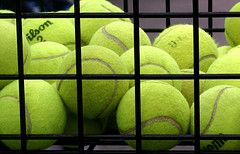tennis ball: (55, 45, 130, 119), (116, 80, 190, 150), (114, 45, 182, 115), (151, 24, 218, 92), (13, 42, 81, 109), (1, 79, 65, 150), (151, 69, 217, 134), (88, 21, 153, 86), (69, 4, 133, 67), (16, 14, 78, 76), (189, 86, 240, 152), (205, 53, 240, 118), (1, 19, 30, 89), (223, 1, 240, 55)
